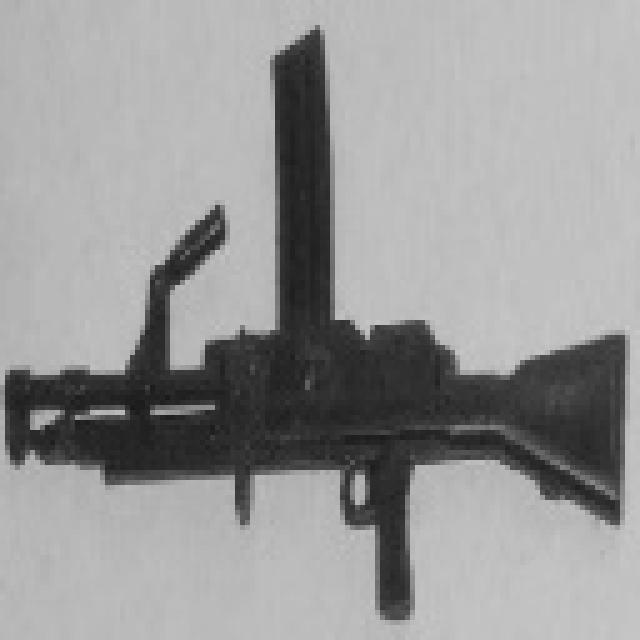Rifle: (0, 6, 640, 634)
